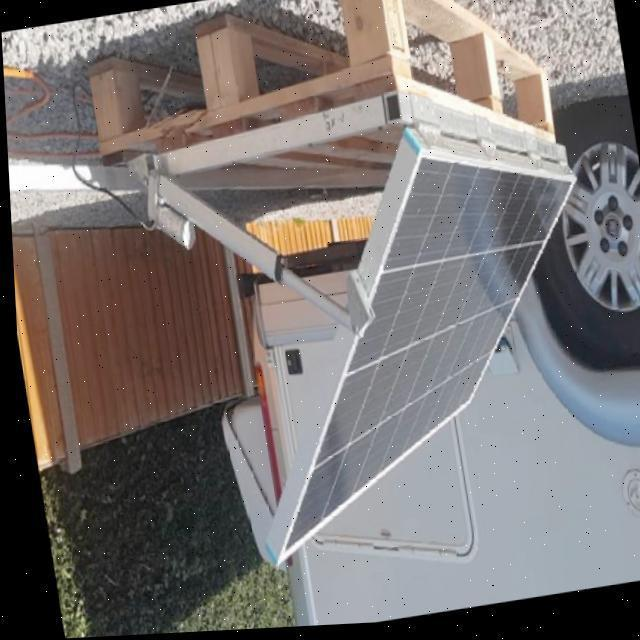Normal Solar Panel: (215, 128, 624, 562)
